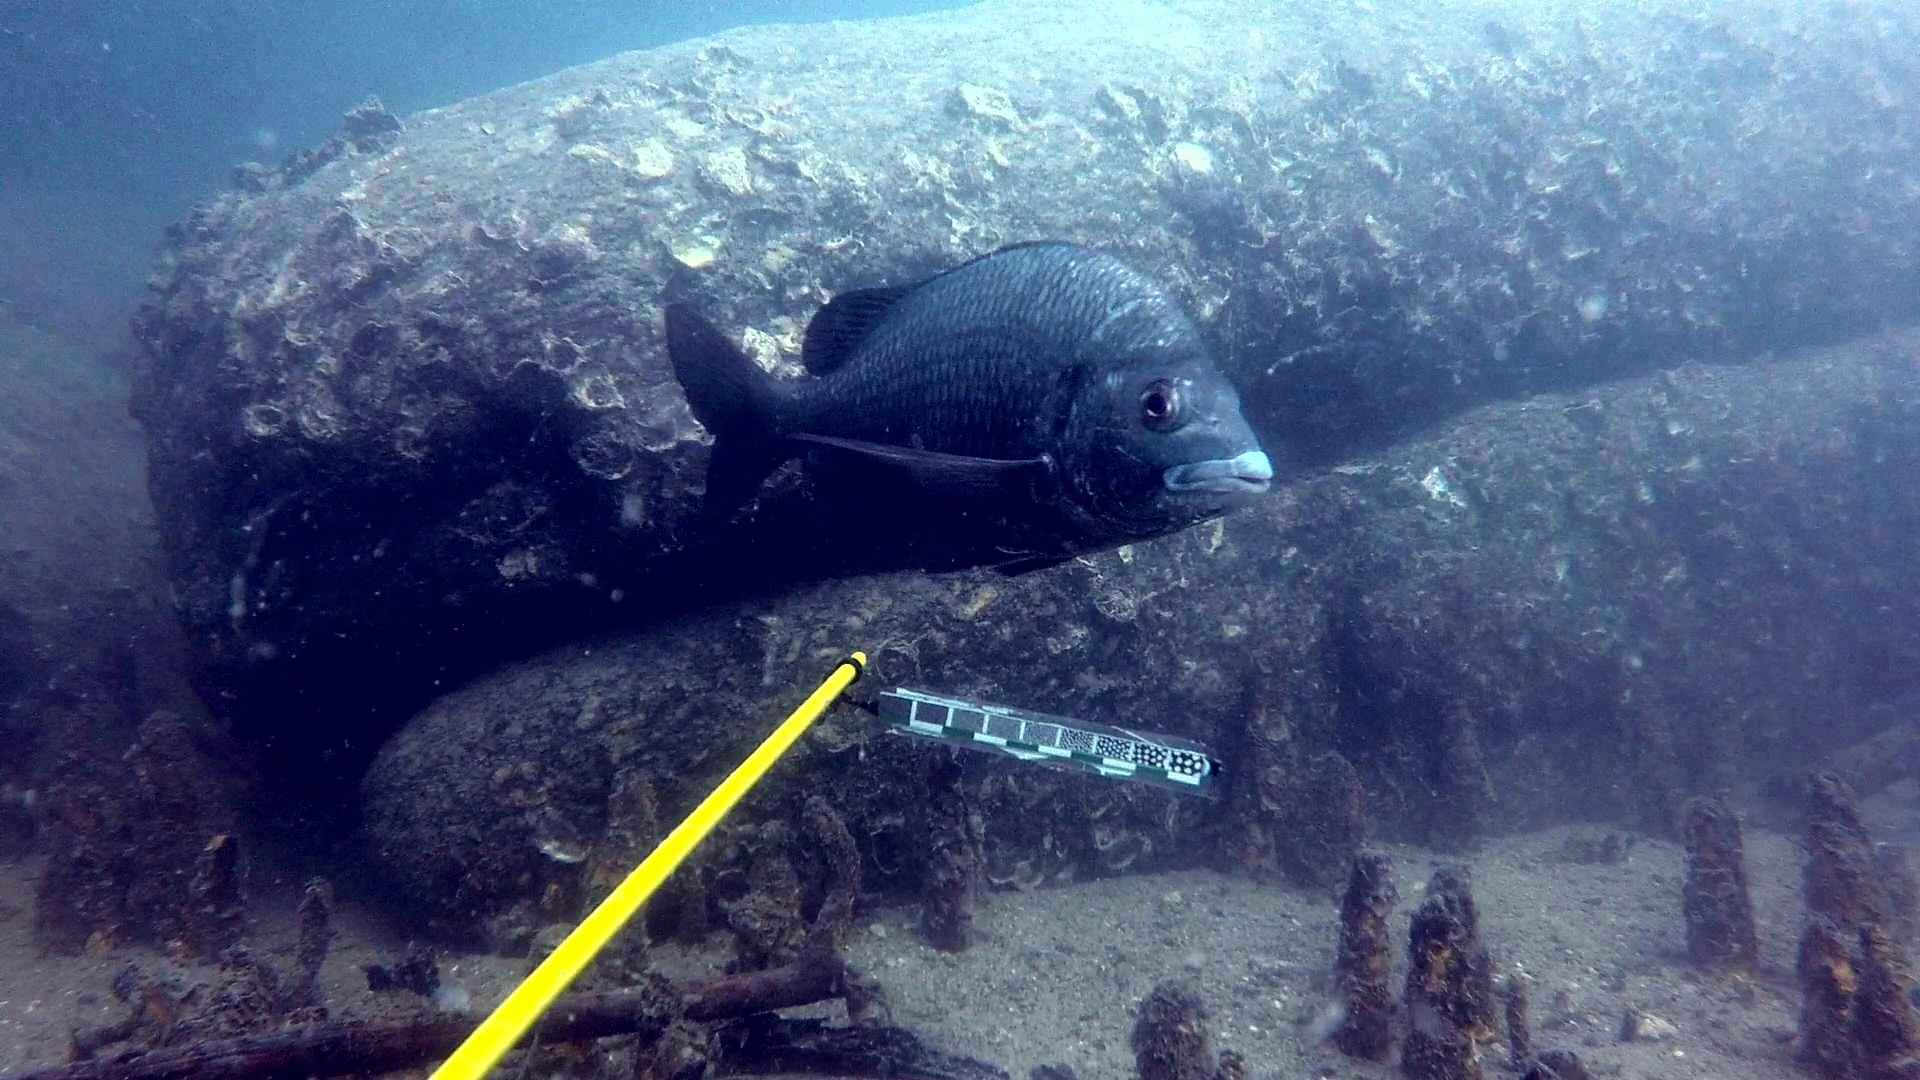acanthopagrus palmaris: (653, 234, 1287, 586)
